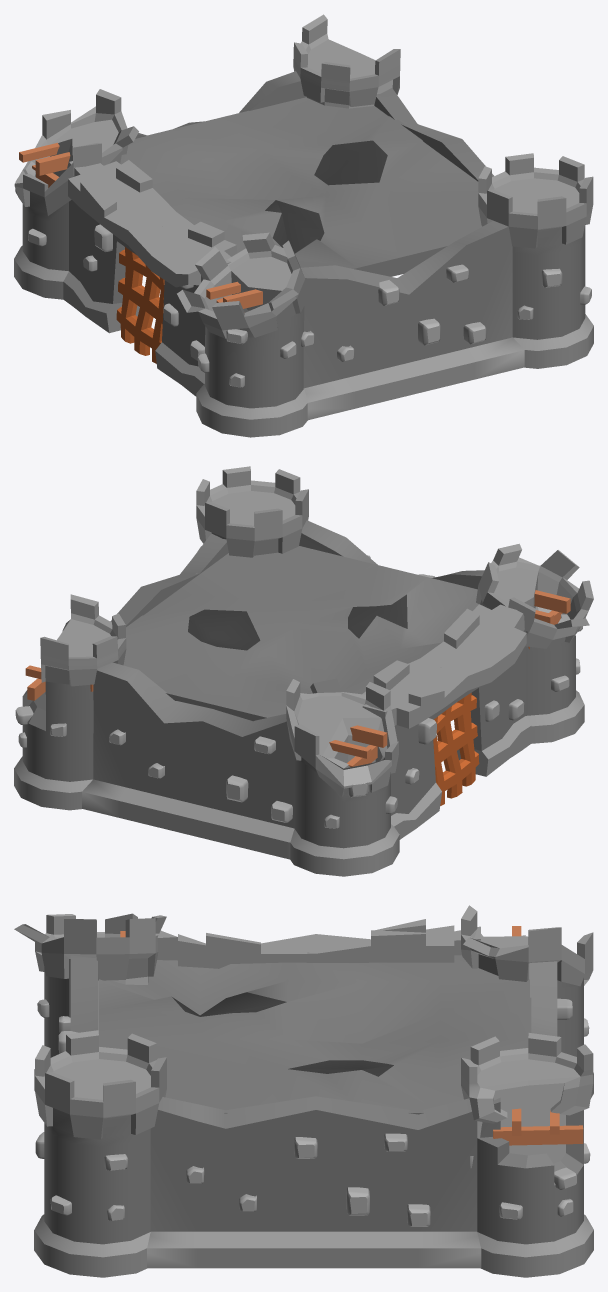
File: Castle_3.fbx
3 views of the same model, one above another, from view 1: azimuth 30°, elevation 25°; view 2: azimuth 150°, elevation 25°; view 3: azimuth 270°, elevation 25° (orthographic). The views are drawn at different scales.
Visible parts, largest first — view 1: pCube1; view 2: pCube1; view 3: pCube1.
Boxes of the visible parts, x1,y1,x2,y2 form: pCube1: (14, 14, 593, 437); pCube1: (14, 466, 593, 876); pCube1: (14, 905, 593, 1277).
Bounding box in the file's own units: 3284 × 1390 × 3620.
